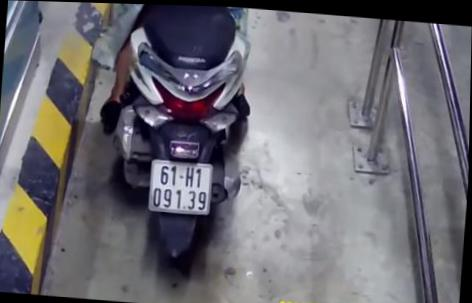LP: (146, 154, 215, 217)
